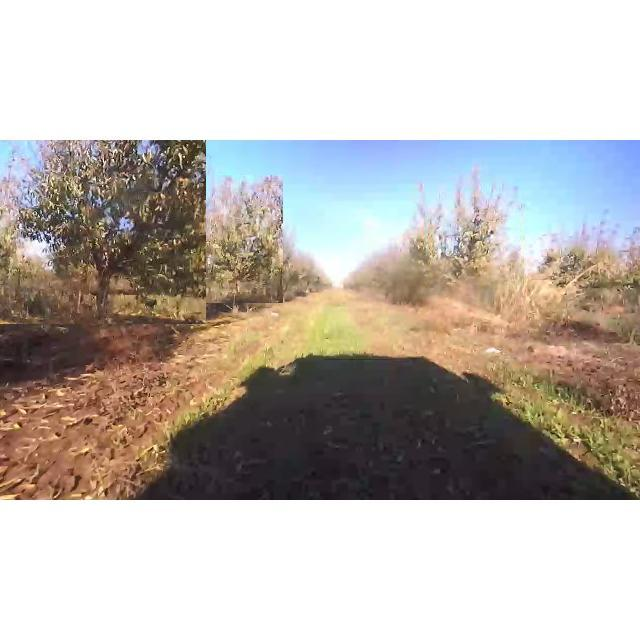direk: (0, 140, 206, 324), (426, 160, 522, 308), (185, 175, 283, 303)
